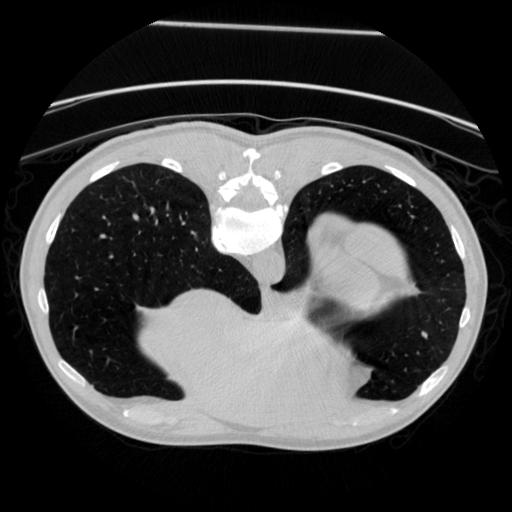nodule: (417, 330, 430, 343)
